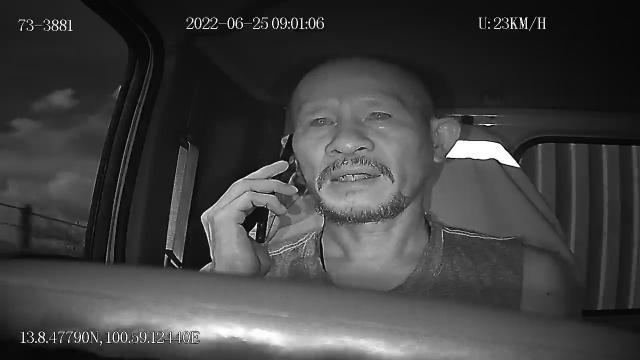PhoneUse: (254, 132, 298, 244)
SafeDriving: (358, 100, 400, 129), (303, 106, 342, 137)
